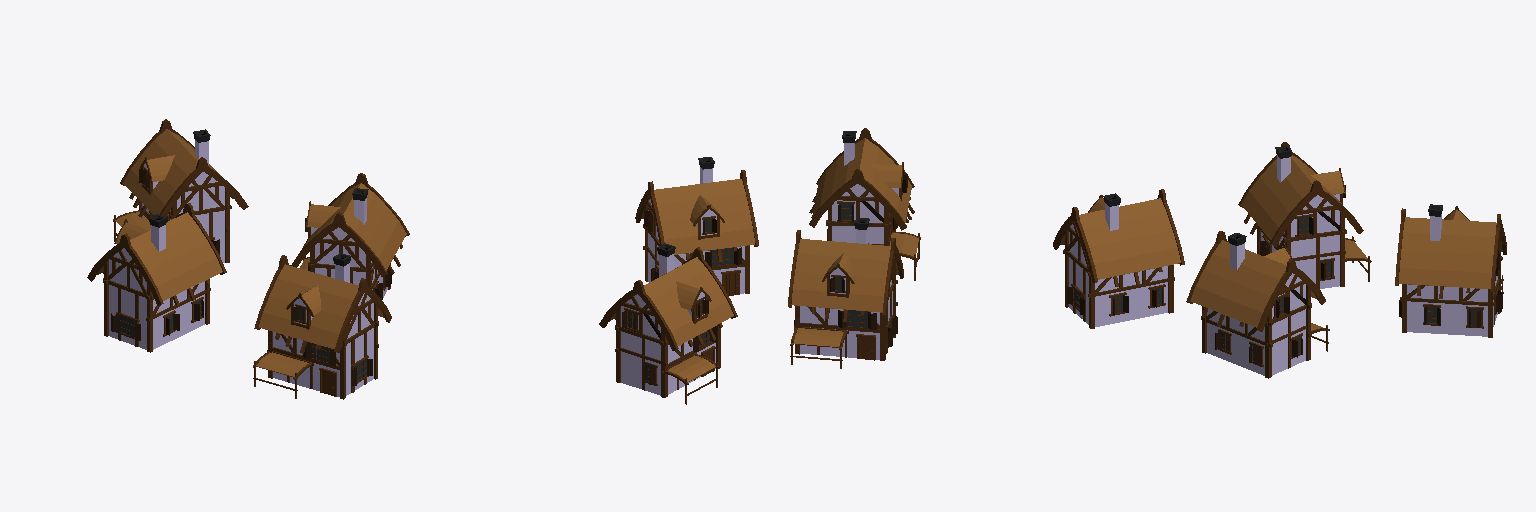
Rendered from houses_west.obj.
3 renders of one model, left to right at view 1: azimuth 30°, elevation 25°; view 2: azimuth 150°, elevation 25°; view 3: azimuth 270°, elevation 25°, orthographic.
Parts seen in each view (by area): view 1: pCube6548.001_Untitled.002, pCube6453.001_Untitled.000, pCube6548_Untitled.009, pCube6453.002_Untitled.001; view 2: pCube6548_Untitled.009, pCube6453.001_Untitled.000, pCube6453.002_Untitled.001, pCube6548.001_Untitled.002; view 3: pCube6453.002_Untitled.001, pCube6548.001_Untitled.002, pCube6548_Untitled.009, pCube6453.001_Untitled.000.
Part boxes in pixels (bbox=[...]): pCube6548.001_Untitled.002: bbox=[253, 253, 391, 399]; pCube6453.001_Untitled.000: bbox=[87, 203, 226, 352]; pCube6548_Untitled.009: bbox=[113, 119, 248, 262]; pCube6453.002_Untitled.001: bbox=[291, 173, 409, 299]; pCube6548_Untitled.009: bbox=[599, 243, 737, 404]; pCube6453.001_Untitled.000: bbox=[788, 218, 903, 368]; pCube6453.002_Untitled.001: bbox=[635, 157, 758, 295]; pCube6548.001_Untitled.002: bbox=[809, 128, 920, 280]; pCube6453.002_Untitled.001: bbox=[1186, 231, 1329, 378]; pCube6548.001_Untitled.002: bbox=[1053, 189, 1184, 328]; pCube6548_Untitled.009: bbox=[1395, 204, 1506, 337]; pCube6453.001_Untitled.000: bbox=[1238, 142, 1371, 288].
Size of the model in its own units: 31.75 by 12.69 by 43.63.